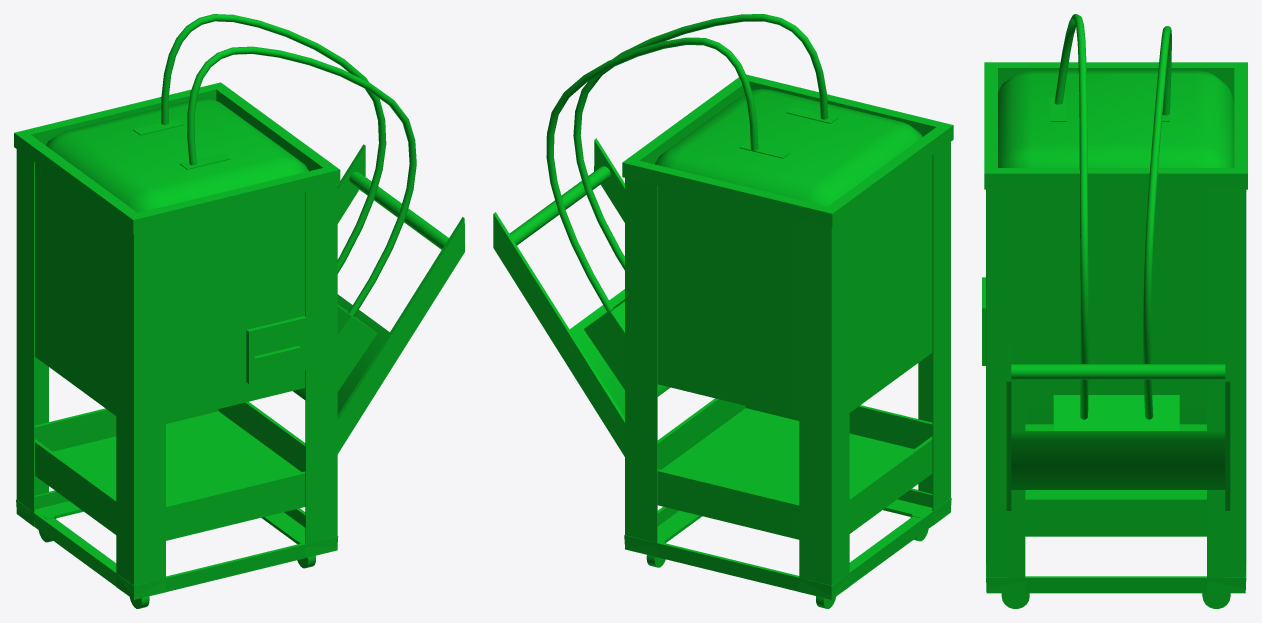
The model's file is Vaccinecarrier.FBX.
3 views of the same model, side by side, from view 1: azimuth 30°, elevation 25°; view 2: azimuth 150°, elevation 25°; view 3: azimuth 270°, elevation 25° (orthographic). The views are drawn at different scales.
Parts seen in each view (by area): view 1: VaccineCarrier; view 2: VaccineCarrier; view 3: VaccineCarrier.
Boxes of the visible parts, x1,y1,x2,y2 form: VaccineCarrier: (14, 14, 464, 608); VaccineCarrier: (493, 14, 953, 608); VaccineCarrier: (982, 14, 1247, 608).
Size of the model in its own units: 94.53 by 134 by 57.72.
